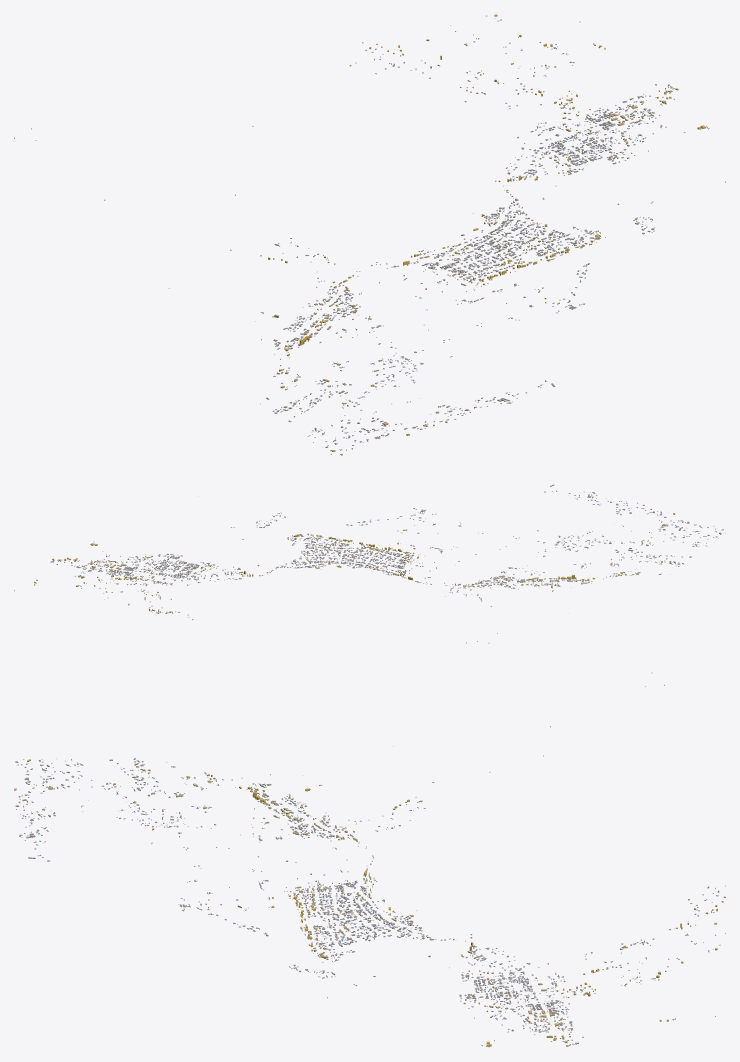
File: buildings.glb
3 renders of one model, top to bottom at view 1: azimuth 30°, elevation 25°; view 2: azimuth 150°, elevation 25°; view 3: azimuth 270°, elevation 25°, orthographic. The views are drawn at different scales.
Visible parts, largest first — view 1: buildings; view 2: buildings; view 3: buildings.
Boxes of the visible parts, box(x1,y1,x2,y2) form: buildings: box(14, 14, 725, 455); buildings: box(14, 484, 725, 643); buildings: box(14, 672, 725, 1047).
Size of the model in its own units: 4781 by 702 by 4761.
